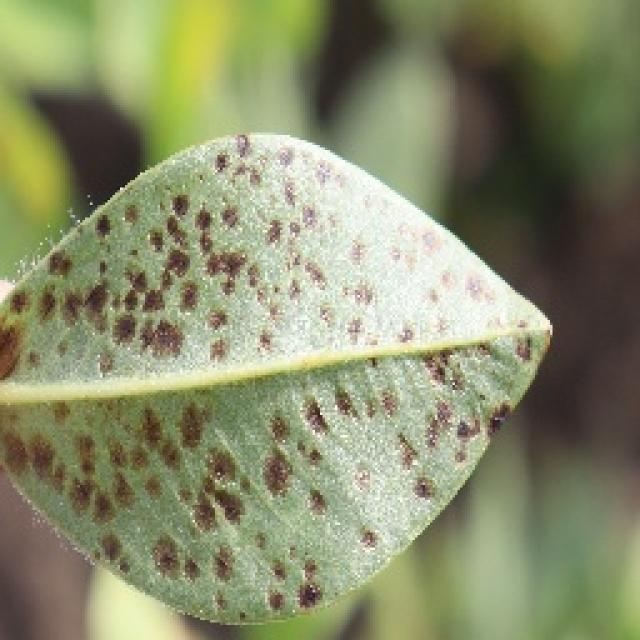Whitefly: (0, 107, 556, 626)
